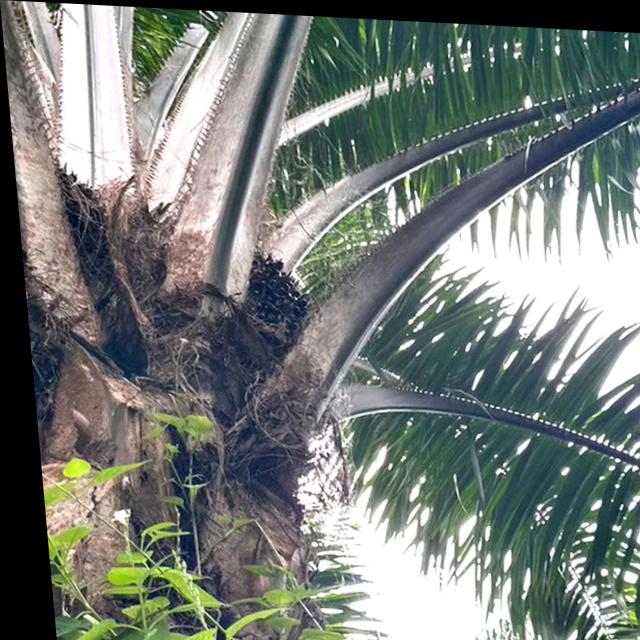unripe: (222, 245, 318, 359)
